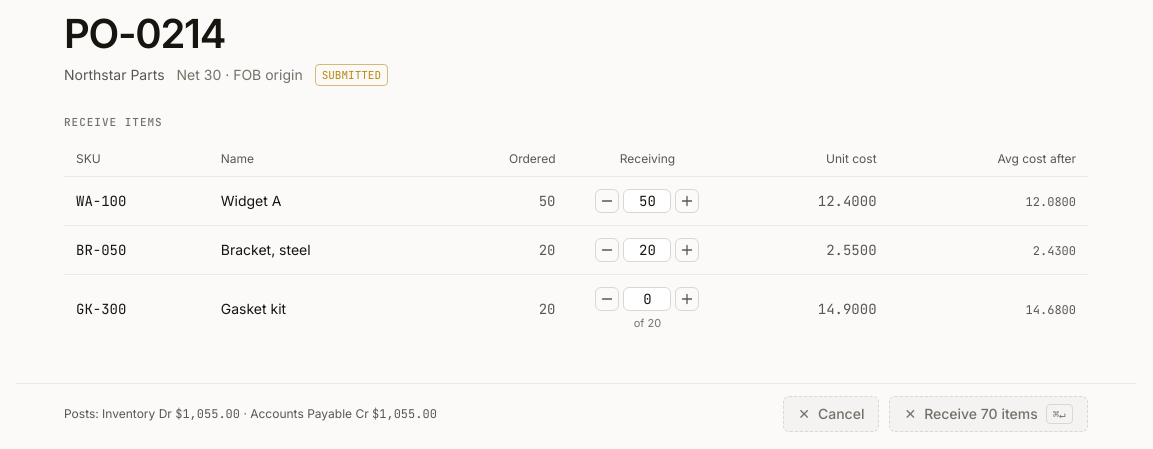
Test: ReceiveScreen › updates that count as quantities change
What coordinates should you click on to do the following:
click the button named "Increase Quantity received for GK-300"
I would click on:
 (688, 299)
Its box is [676,287,700,311].
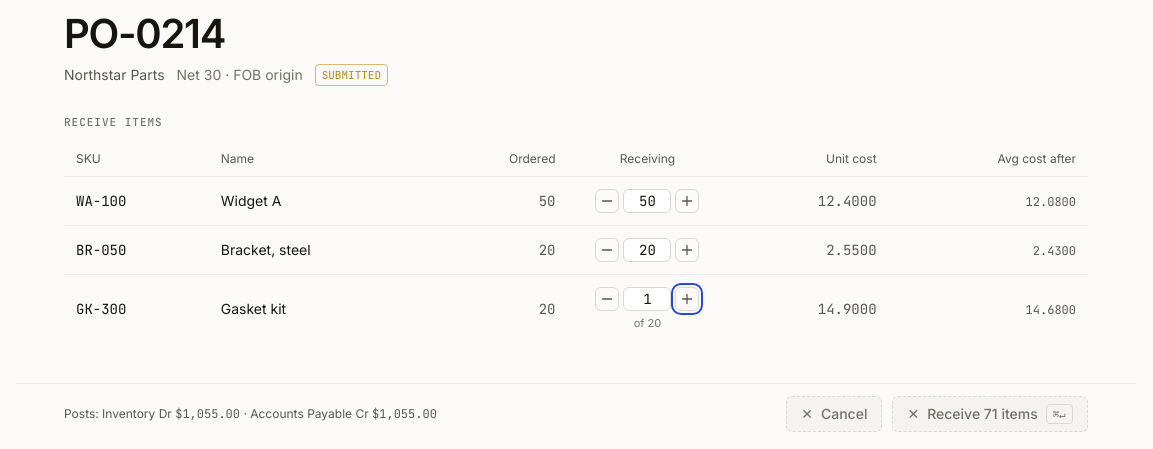
Check: the button "✕ Receive 71 items ⌘↵" is shown, box [892,396,1088,432]
